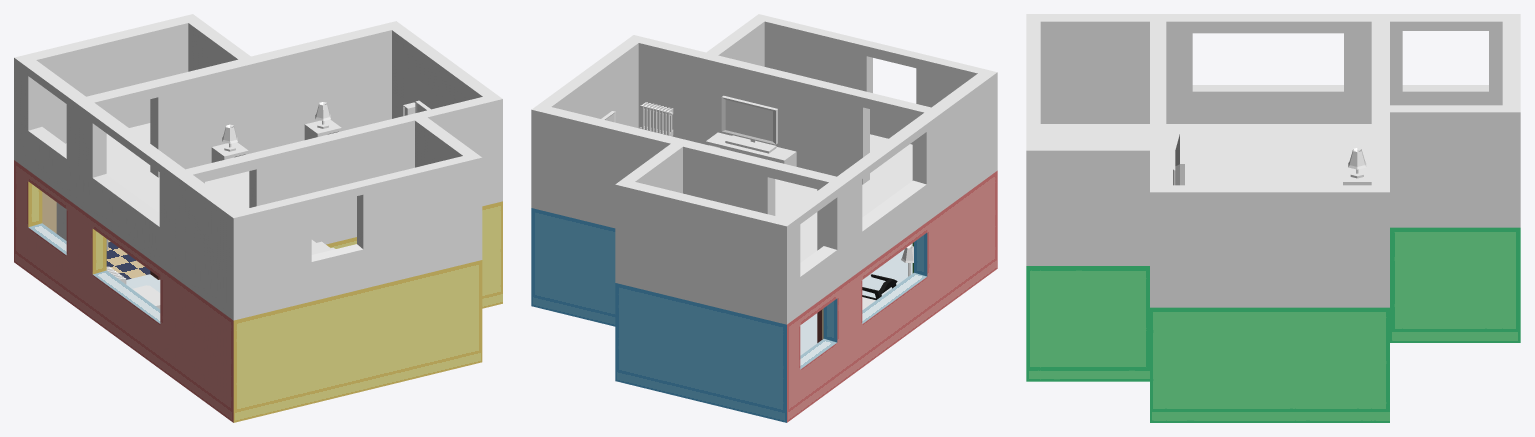
File: house2.gltf
3 renders of one model, left to right at view 1: azimuth 30°, elevation 25°; view 2: azimuth 150°, elevation 25°; view 3: azimuth 270°, elevation 25°, orthographic. The views are drawn at different scales.
Parts seen in each view (by area): view 1: upstairs_walls, downstairs_walls, upstairs_floor, downstairs_floor, side_table (×2); view 2: upstairs_walls, downstairs_walls, upstairs_floor, downstairs_floor, tv, media_center, radiator; view 3: upstairs_walls, downstairs_walls, upstairs_floor, downstairs_floor, tv.
Boxes of the visible parts, x1,y1,x2,y2 form: upstairs_walls: (14,14,502,308); downstairs_walls: (14,160,502,411); upstairs_floor: (14,123,502,320); downstairs_floor: (14,240,502,422); side_table (×2): (211,119,341,162); upstairs_walls: (531,14,997,313); downstairs_walls: (531,170,997,411); upstairs_floor: (531,134,997,324); downstairs_floor: (531,243,997,422); tv: (721,95,777,153); media_center: (705,132,796,166); radiator: (639,102,673,136); upstairs_walls: (1026,14,1520,294); downstairs_walls: (1026,227,1520,409); upstairs_floor: (1026,124,1520,307); downstairs_floor: (1026,330,1520,422); tv: (1171,133,1187,185).
Bounding box in the file's own units: 5.44 × 3.28 × 6.38.
10 materials, 8 textured.
